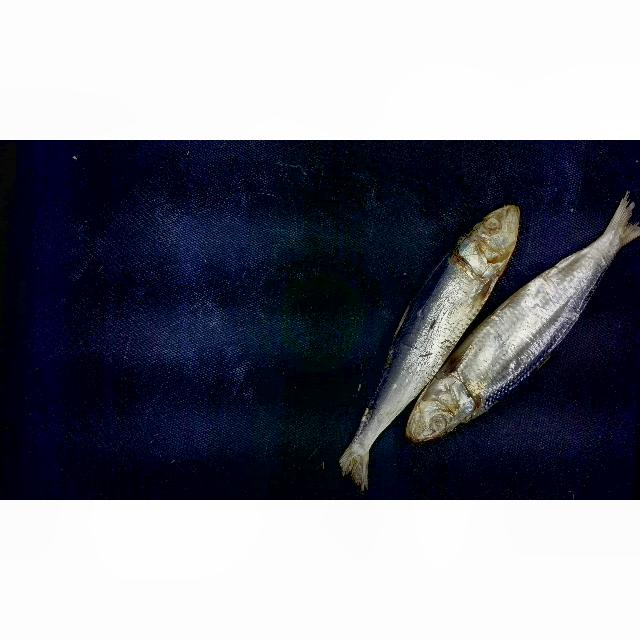Grade_A_Body: (471, 279, 615, 404), (379, 270, 489, 401)
Grade_A_Head: (436, 195, 537, 270), (406, 373, 479, 451)
Grade_A_Tail: (329, 378, 419, 490), (558, 193, 640, 277)
